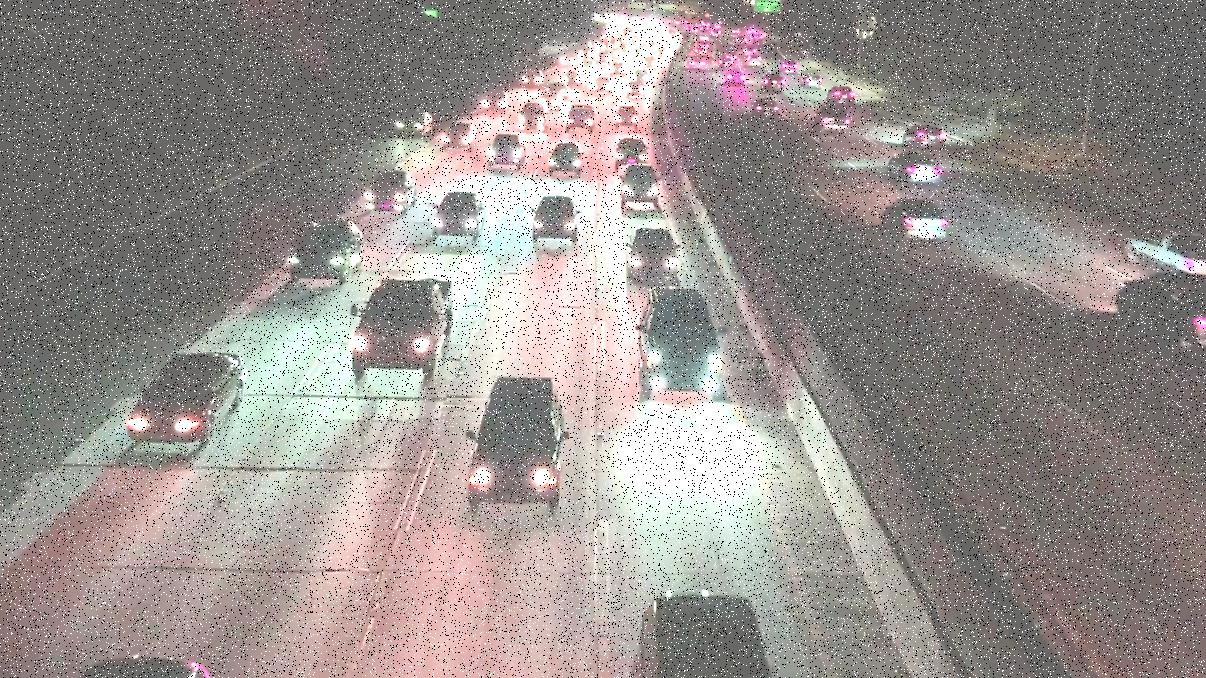car: (460, 368, 574, 520), (120, 344, 257, 457), (634, 580, 788, 678), (336, 273, 456, 376), (634, 284, 725, 405), (1107, 267, 1206, 370), (1112, 220, 1206, 280), (285, 216, 370, 282), (625, 223, 684, 285), (428, 188, 492, 243), (529, 194, 581, 245), (891, 200, 952, 241), (618, 161, 663, 213), (884, 119, 949, 151), (882, 151, 944, 184), (485, 129, 527, 175), (739, 89, 787, 123), (543, 139, 585, 177), (807, 104, 850, 139), (611, 133, 655, 165), (438, 119, 480, 149), (824, 85, 858, 102)
